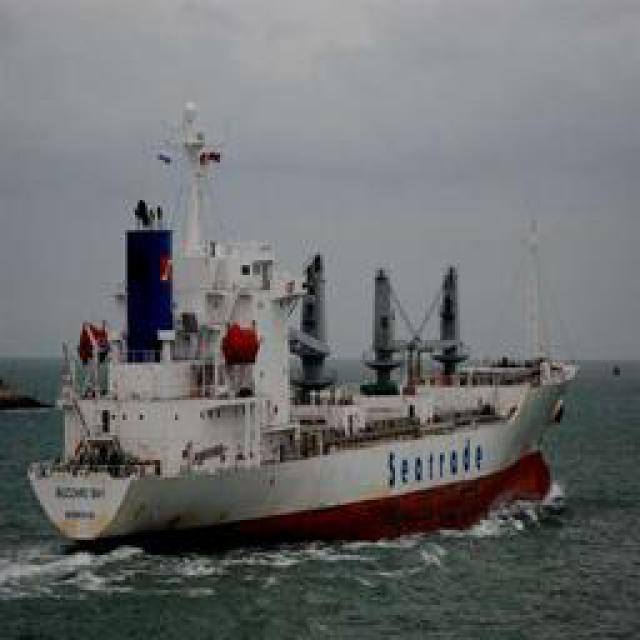Ship: (13, 243, 568, 558)
